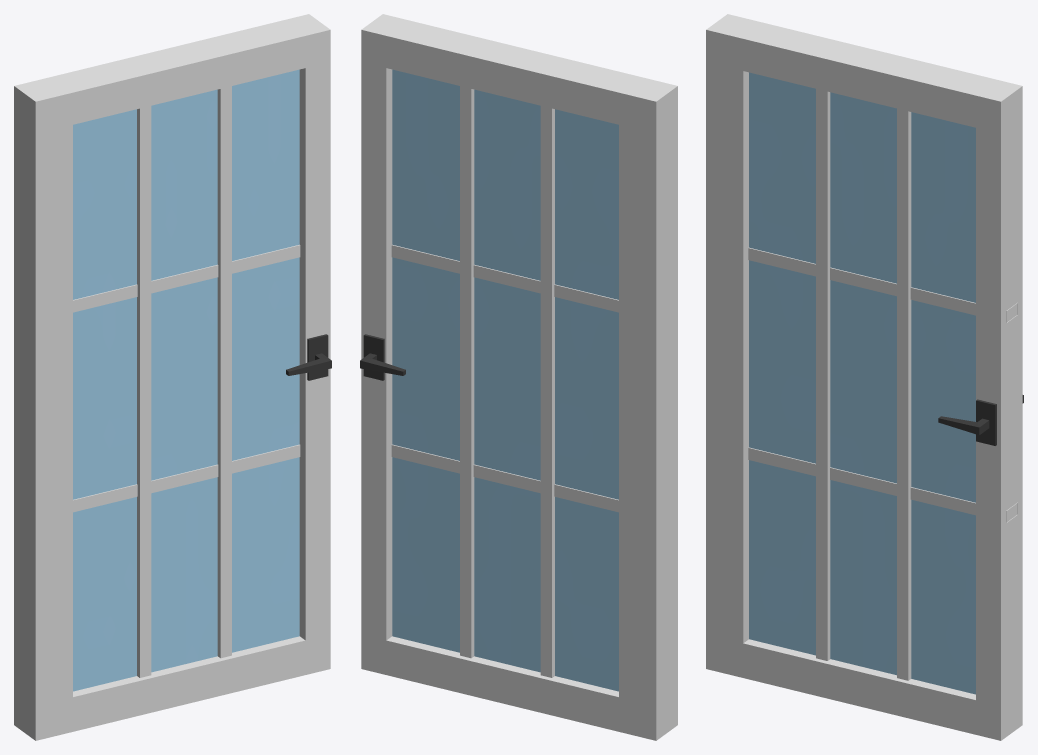
Rendered from door_001.obj.
3 renders of one model, left to right at view 1: azimuth 30°, elevation 25°; view 2: azimuth 150°, elevation 25°; view 3: azimuth 330°, elevation 25°, orthographic.
Parts seen in each view (by area): view 1: door_001; view 2: door_001; view 3: door_001.
Boxes of the visible parts, left/top/right/bottom form: door_001: left=14, top=14, right=331, bottom=740; door_001: left=360, top=14, right=677, bottom=740; door_001: left=706, top=14, right=1023, bottom=740.
Size of the model in its own units: 1.1 by 2.27 by 0.2859.
